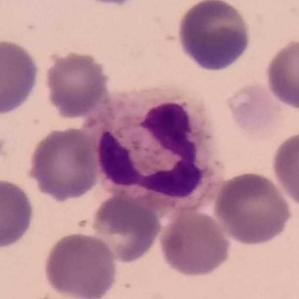Neutrophil: (83, 86, 223, 208)
RBC: (212, 170, 294, 247), (26, 124, 102, 203), (175, 0, 253, 74), (156, 207, 234, 279), (88, 191, 163, 265), (41, 230, 119, 299), (42, 48, 112, 118), (0, 37, 42, 118), (225, 82, 285, 138), (263, 36, 299, 111), (0, 176, 36, 251), (269, 127, 299, 210), (85, 0, 139, 9)
